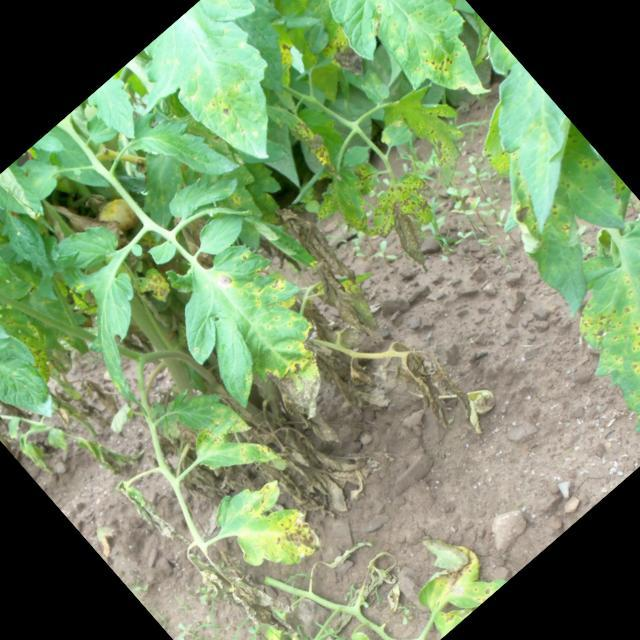Tomato Septoria spot leaf: (148, 223, 373, 454), (111, 0, 343, 209), (297, 0, 523, 148), (516, 215, 640, 459), (45, 252, 208, 421), (203, 462, 331, 592), (382, 513, 508, 639), (0, 259, 79, 452), (124, 92, 242, 212), (378, 70, 494, 192), (356, 162, 472, 280), (299, 160, 397, 260), (185, 402, 281, 499), (262, 90, 351, 187), (164, 369, 254, 462), (161, 154, 244, 234), (82, 72, 159, 150), (0, 199, 66, 281), (188, 199, 254, 263)
Tomato healthy leaf: (144, 233, 180, 269)
